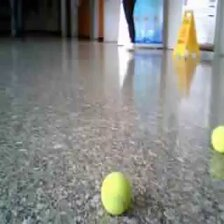tennis: (100, 172, 132, 215), (211, 125, 224, 153)
